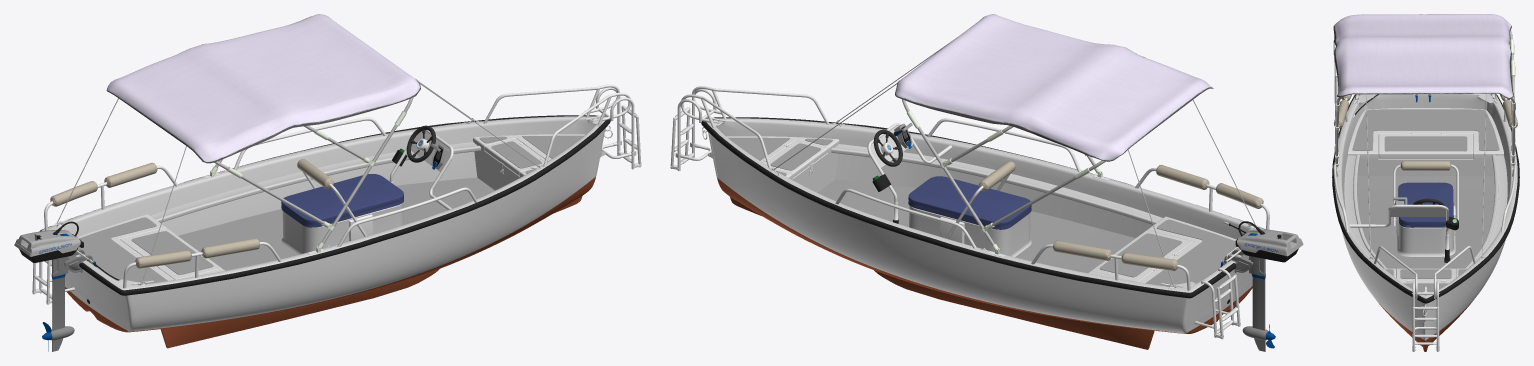
Rendered from ebalin_horgasz.gltf.
3 views of the same model, side by side, from view 1: azimuth 30°, elevation 25°; view 2: azimuth 150°, elevation 25°; view 3: azimuth 270°, elevation 25° (orthographic). The views are drawn at different scales.
Parts seen in each view (by area): view 1: Bimini.001, Horgasz_hull, Boat_inner_hull.001, Anti_slippery.001, Cube.001, Dorzslec, Karpit, Front_Storage_Body, Motor, Upholstery_beige_back, Steering_module.001, Letra_elso.001 (+7 smaller); view 2: Bimini.001, Horgasz_hull, Boat_inner_hull.001, Anti_slippery.001, Cube.001, Dorzslec, Karpit, Front_Storage_Body, Motor, Upholstery_beige_back, Steering_module.001, Korlat_orr.001 (+7 smaller); view 3: Bimini.001, Boat_inner_hull.001, Anti_slippery.001, Cube.001, Front_Storage_Body, Horgasz_hull, Karpit, Dorzslec, Steering_module.001, Kormanyallas, Letra_elso.001, Korlat_orr.001 (+4 smaller).
Part boxes in pixels (<box>): Bimini.001: <box>55,14,540,284</box>; Horgasz_hull: <box>51,130,603,348</box>; Boat_inner_hull.001: <box>41,116,606,290</box>; Anti_slippery.001: <box>178,177,494,270</box>; Cube.001: <box>77,135,583,284</box>; Dorzslec: <box>39,115,610,295</box>; Karpit: <box>281,174,403,227</box>; Front_Storage_Body: <box>78,134,584,280</box>; Motor: <box>14,221,96,351</box>; Upholstery_beige_back: <box>50,162,260,268</box>; Steering_module.001: <box>281,203,403,254</box>; Letra_elso.001: <box>596,87,641,169</box>; Bimini.001: <box>772,14,1256,287</box>; Horgasz_hull: <box>710,134,1252,349</box>; Boat_inner_hull.001: <box>705,118,1264,292</box>; Anti_slippery.001: <box>817,179,1135,273</box>; Cube.001: <box>728,137,1240,286</box>; Dorzslec: <box>701,117,1265,298</box>; Karpit: <box>908,176,1031,229</box>; Front_Storage_Body: <box>726,136,1236,283</box>; Motor: <box>1220,221,1303,351</box>; Upholstery_beige_back: <box>1053,164,1263,270</box>; Steering_module.001: <box>909,205,1031,257</box>; Korlat_orr.001: <box>681,86,829,168</box>; Bimini.001: <box>1333,14,1515,259</box>; Boat_inner_hull.001: <box>1334,93,1517,298</box>; Anti_slippery.001: <box>1357,176,1494,268</box>; Cube.001: <box>1352,109,1499,292</box>; Front_Storage_Body: <box>1348,108,1503,283</box>; Horgasz_hull: <box>1342,231,1505,351</box>; Karpit: <box>1398,182,1453,227</box>; Dorzslec: <box>1332,94,1519,303</box>; Steering_module.001: <box>1397,200,1455,256</box>; Kormanyallas: <box>1349,204,1450,262</box>; Letra_elso.001: <box>1411,281,1439,351</box>; Korlat_orr.001: <box>1373,246,1476,299</box>.
Bounding box in the file's own units: 4.34 × 1.54 × 1.36.
25 materials, 9 textured.
